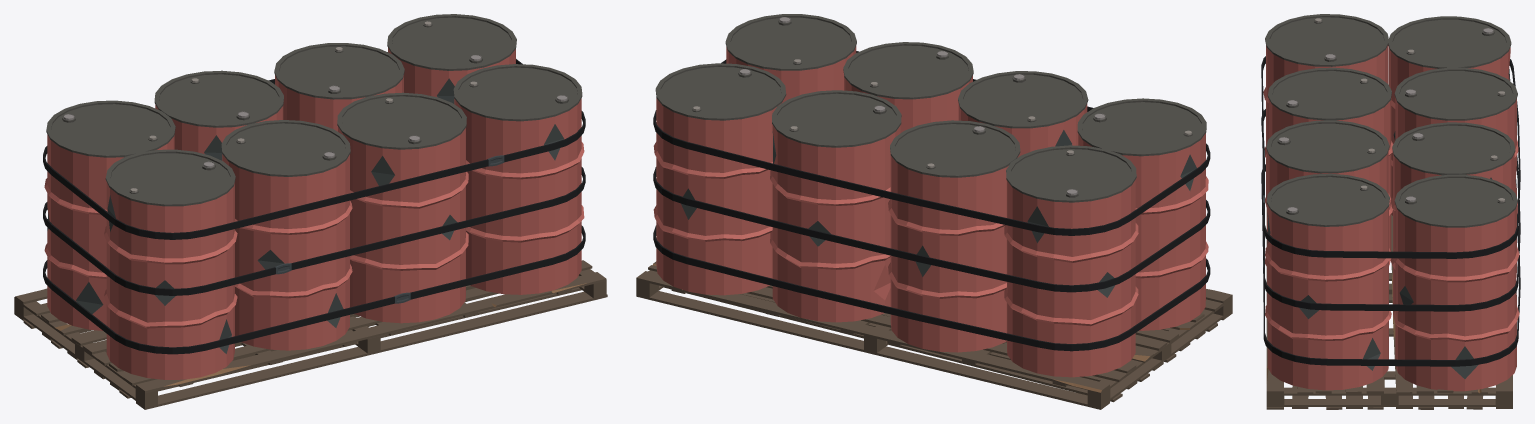
The model's file is SM_Cargo_Barrel.glb.
3 renders of one model, left to right at view 1: azimuth 30°, elevation 25°; view 2: azimuth 150°, elevation 25°; view 3: azimuth 270°, elevation 25°, orthographic. The views are drawn at different scales.
Visible parts, largest first — view 1: SM_Cargo_Barrel; view 2: SM_Cargo_Barrel; view 3: SM_Cargo_Barrel.
Boxes of the visible parts, left/top/right/bottom form: SM_Cargo_Barrel: left=14, top=14, right=607, bottom=409; SM_Cargo_Barrel: left=636, top=14, right=1232, bottom=409; SM_Cargo_Barrel: left=1261, top=14, right=1520, bottom=409.
Bounding box in the file's own units: 2.48 × 0.999 × 1.26.
Materials: 2 (1 with a texture image).
